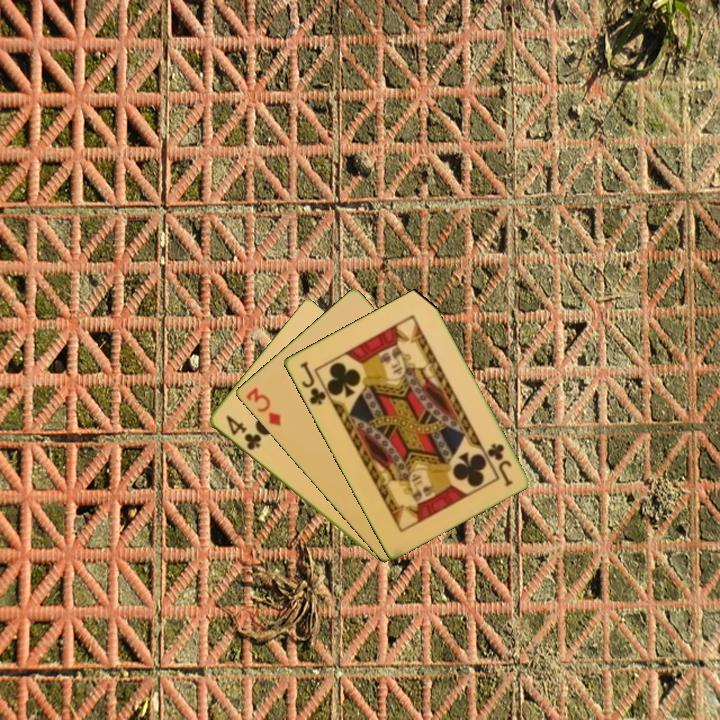3d: (242, 384, 284, 429)
4c: (222, 411, 264, 453)
Jc: (296, 358, 328, 408), (483, 439, 515, 489)
